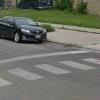Crosswalk: (7, 55, 92, 87)
